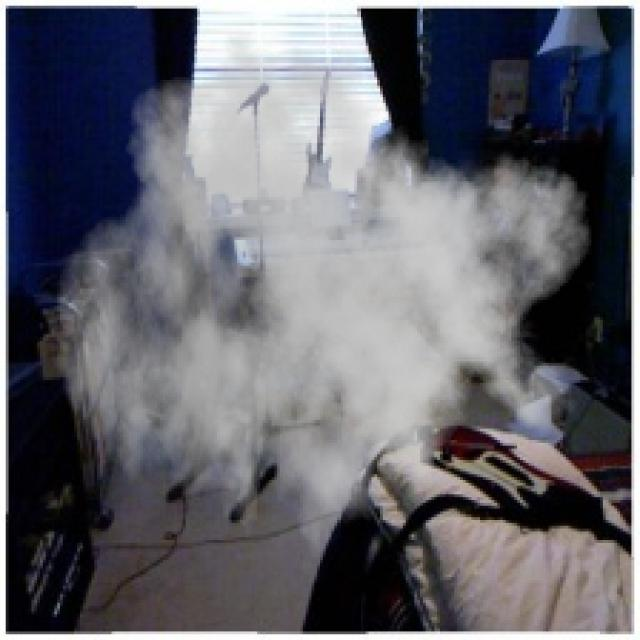smoke: (55, 17, 594, 583)
